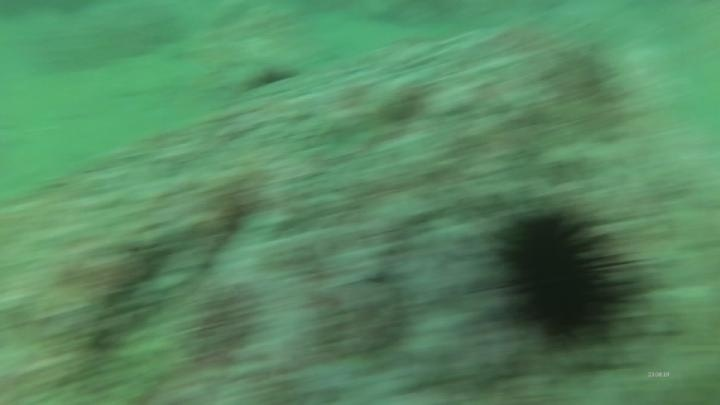echinus: (489, 201, 638, 354)
